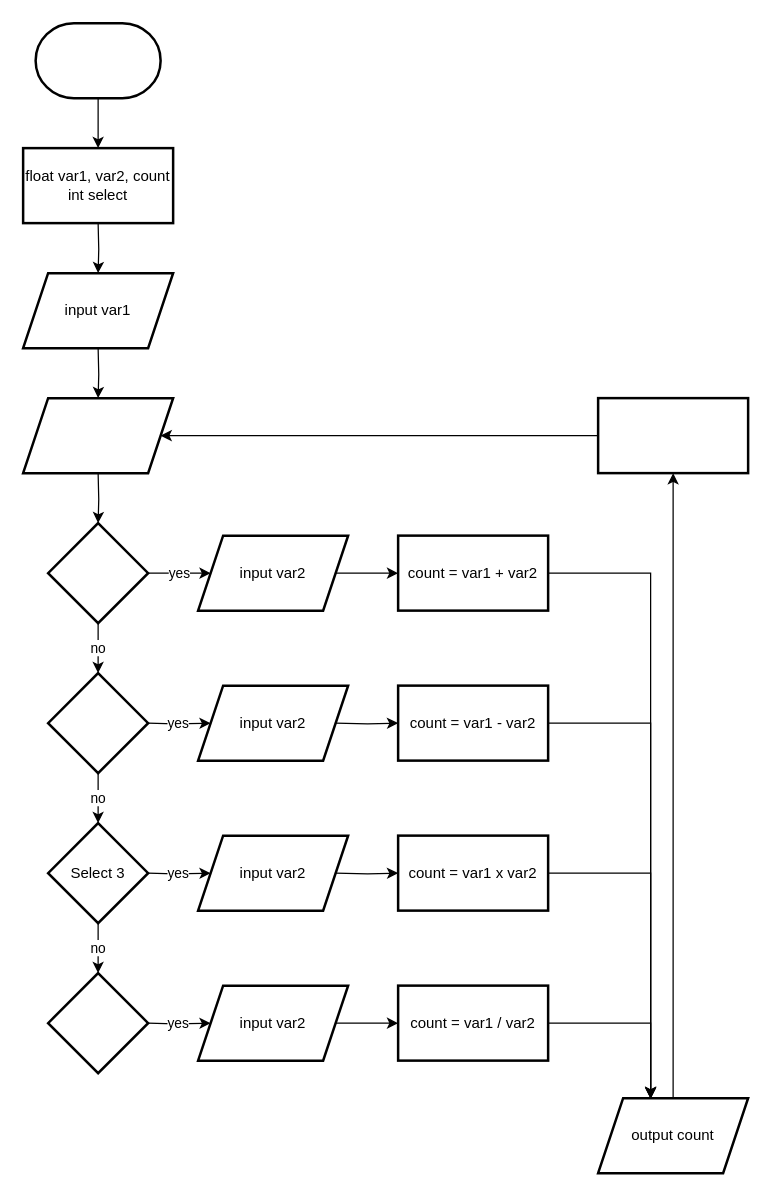
The diagram is 770 pixels wide and 1195 high, and some of its shapes have lost their labels. The shapes that lost their labels are listed below. From the top down, each one's centre as x and y in pixels, then its label:
At (x=97, y=60): "Start".
At (x=97, y=435): "input select".
At (x=672, y=435): "var1 = count".
At (x=97, y=572): "select 1".
At (x=97, y=722): "Select 2".
At (x=97, y=1022): "Select 4".
